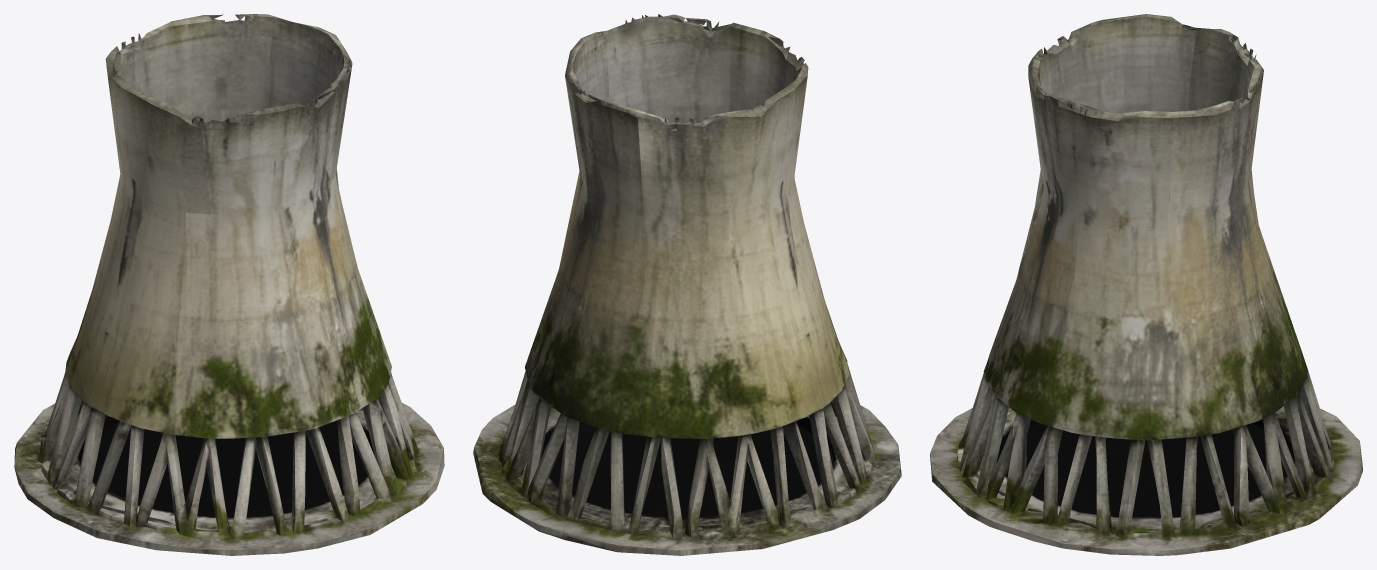
Rendered from chimney_cooling.glb.
The picture shows the model from 3 angles, left to right: view 1: azimuth 30°, elevation 25°; view 2: azimuth 150°, elevation 25°; view 3: azimuth 270°, elevation 25°; orthographic projection.
Parts seen in each view (by area): view 1: world; view 2: world; view 3: world.
Part boxes in pixels (x1=…): world: x1=14, y1=14, x2=444, y2=555; world: x1=473, y1=14, x2=901, y2=555; world: x1=930, y1=14, x2=1362, y2=555.
Bounding box in the file's own units: 34.53 × 36 × 34.67.
1 material, 1 textured.
